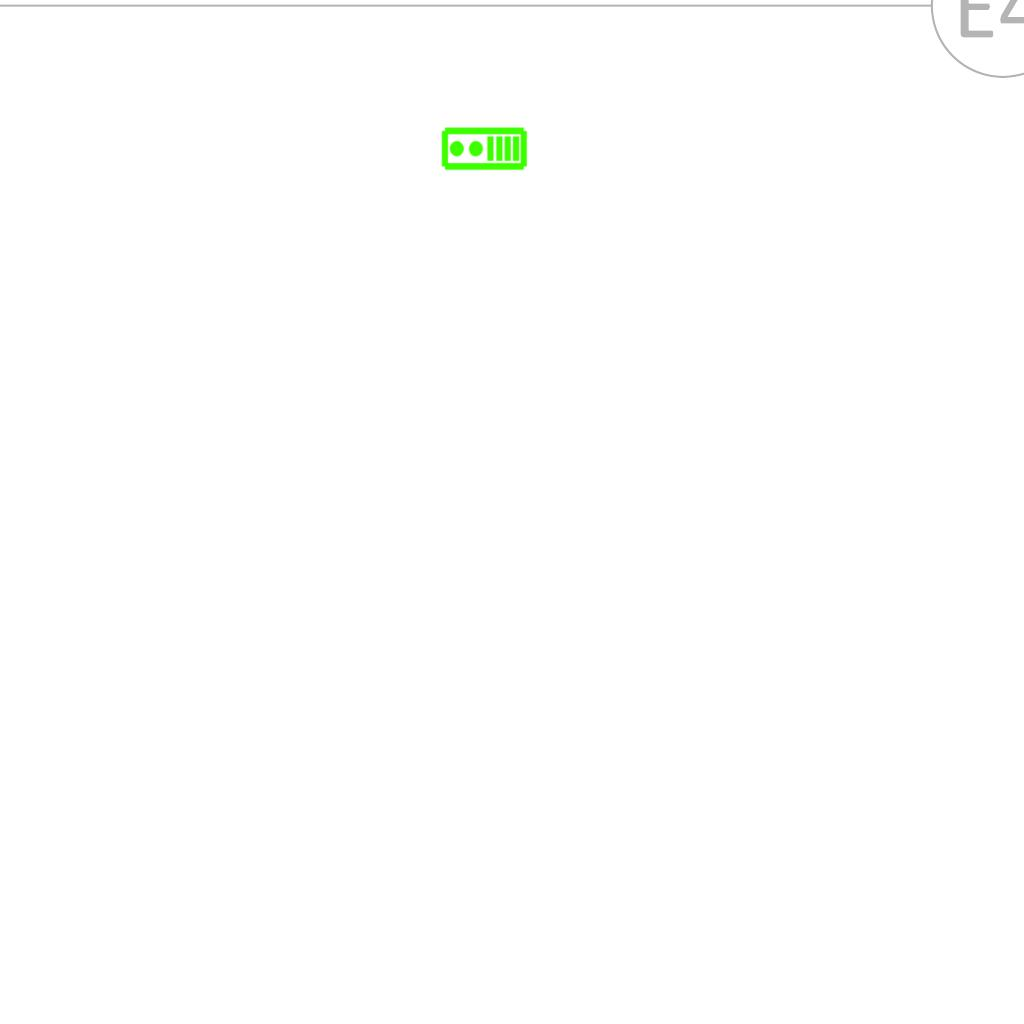Gegensprechanlage_mit_Video: (440, 126, 528, 173)
